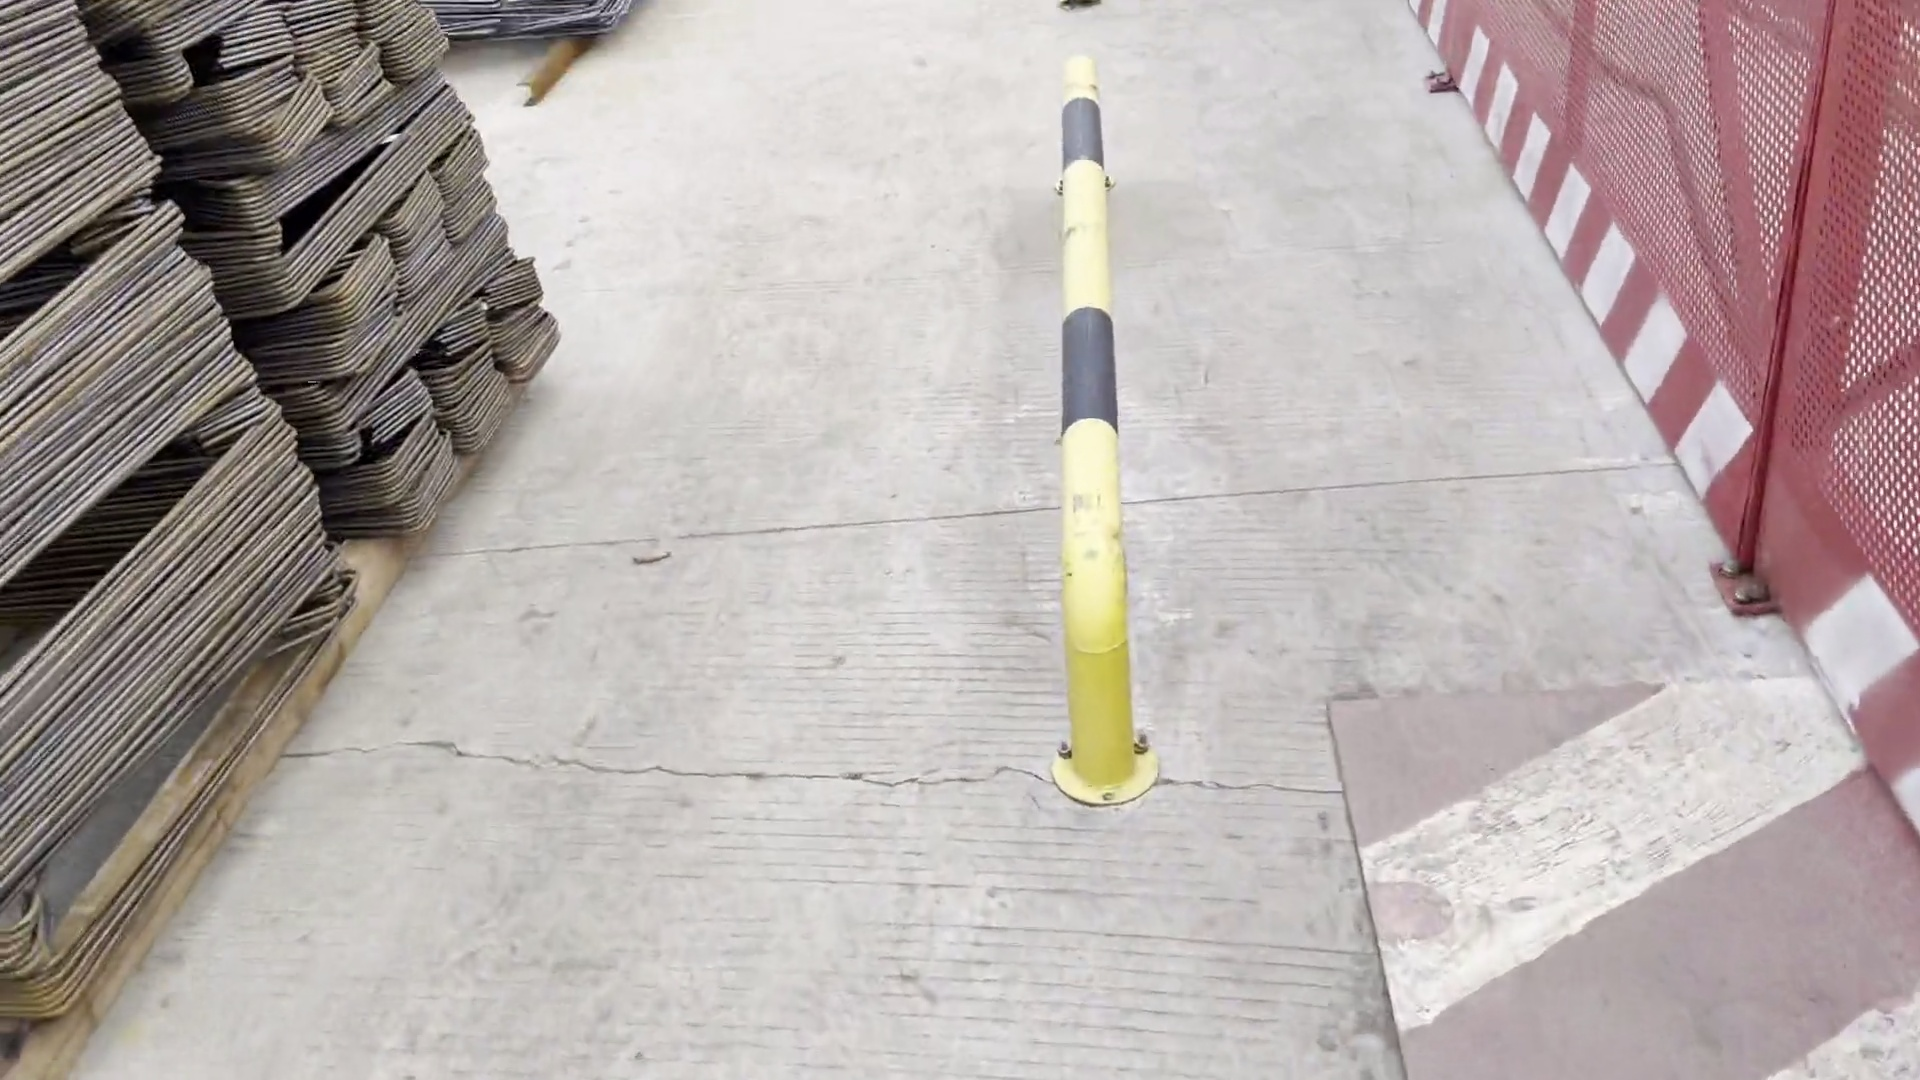fence: (1408, 1, 1920, 814)
